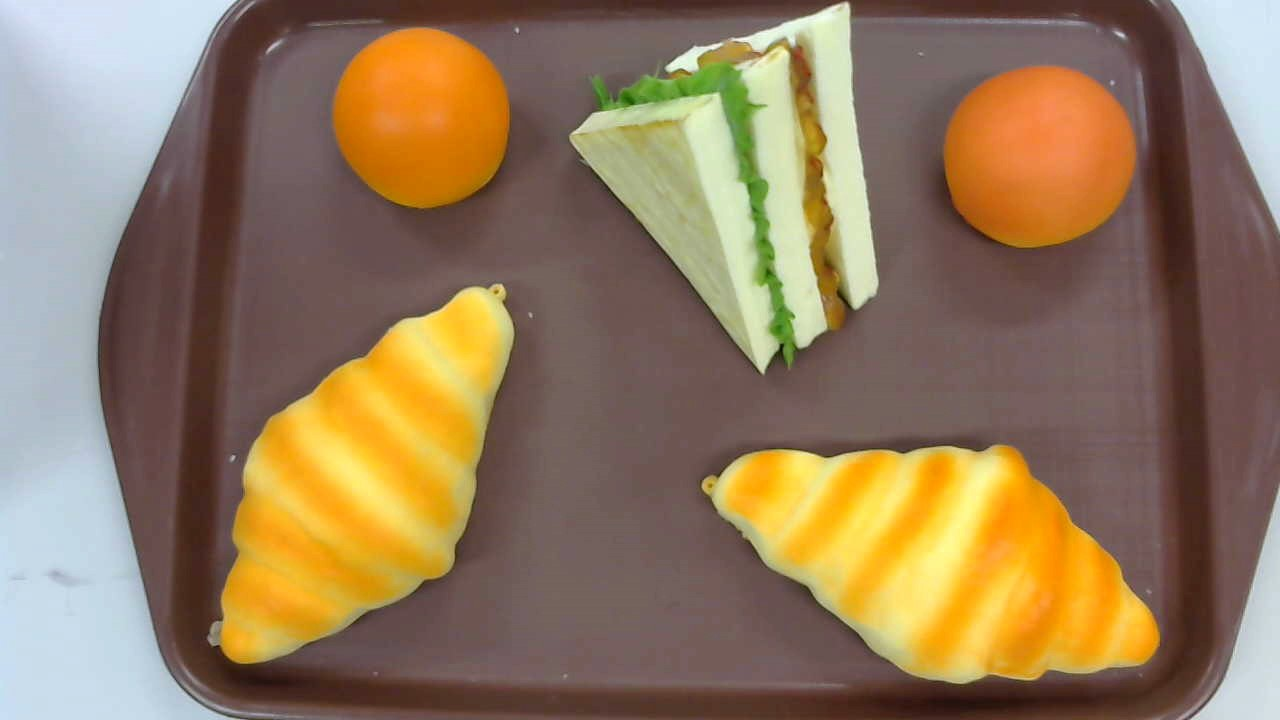bun: (942, 66, 1136, 248), (333, 28, 510, 209)
croissant: (220, 282, 516, 664), (701, 444, 1160, 684)
sandwich: (568, 1, 880, 376)
